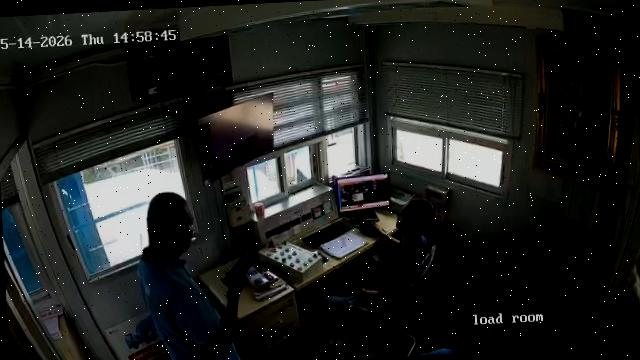Head: (143, 190, 195, 255), (396, 198, 432, 243), (470, 325, 520, 352)
People: (139, 193, 243, 359), (314, 198, 433, 318), (426, 326, 519, 354)
Phone: (221, 253, 254, 286)
